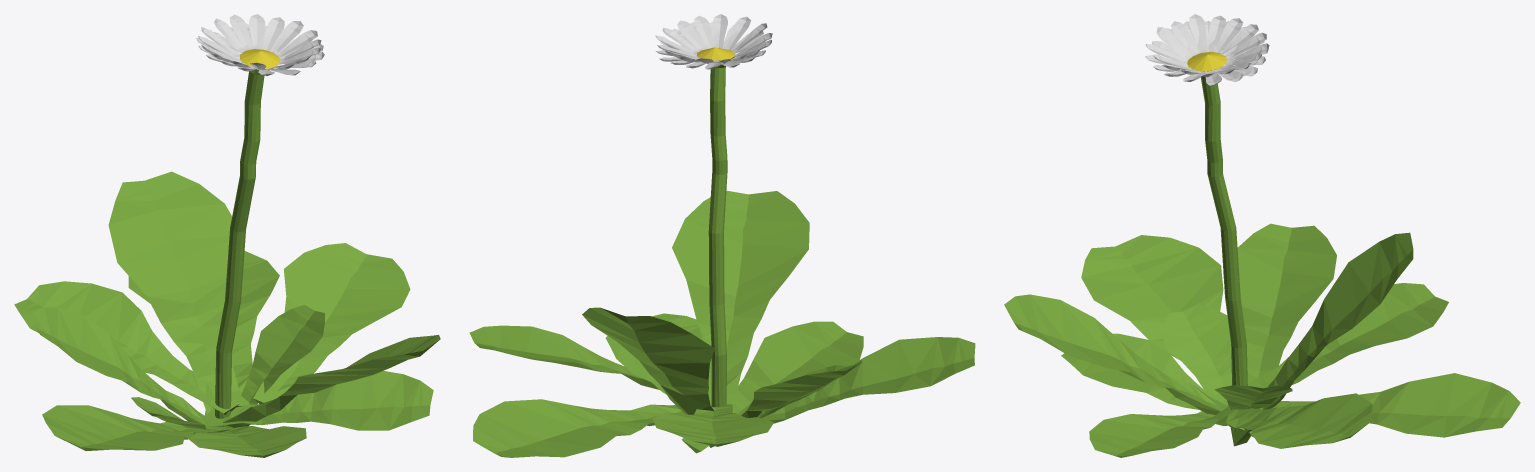
3 renders of one model, left to right at view 1: azimuth 30°, elevation 25°; view 2: azimuth 150°, elevation 25°; view 3: azimuth 270°, elevation 25°, orthographic. The views are drawn at different scales.
Visible parts, largest first — view 1: node_MeshObject-1139085312-PolyPaper9, node_MeshObject-910778816-PolyPaper9; view 2: node_MeshObject-1139085312-PolyPaper9, node_MeshObject-910778816-PolyPaper9; view 3: node_MeshObject-1139085312-PolyPaper9, node_MeshObject-910778816-PolyPaper9.
Boxes of the visible parts, x1,y1,x2,y2 form: node_MeshObject-1139085312-PolyPaper9: (14, 14, 440, 457); node_MeshObject-910778816-PolyPaper9: (215, 49, 280, 427); node_MeshObject-1139085312-PolyPaper9: (469, 14, 975, 457); node_MeshObject-910778816-PolyPaper9: (697, 47, 735, 406); node_MeshObject-1139085312-PolyPaper9: (1004, 14, 1520, 457); node_MeshObject-910778816-PolyPaper9: (1187, 52, 1247, 431).
Size of the model in its own units: 2.49 by 2.29 by 2.62.
